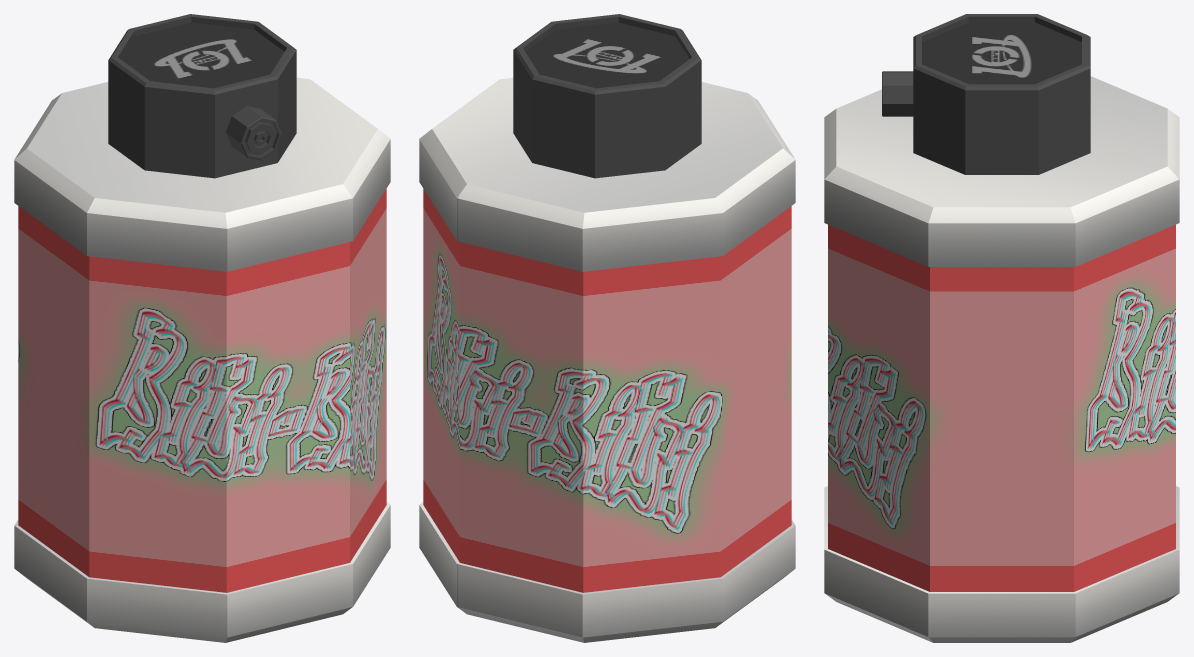
File: ST_spray_R.fbx
3 renders of one model, left to right at view 1: azimuth 30°, elevation 25°; view 2: azimuth 150°, elevation 25°; view 3: azimuth 270°, elevation 25°, orthographic.
Visible parts, largest first — view 1: pCylinder1, pCylinder4, pCylinder3; view 2: pCylinder1, pCylinder4; view 3: pCylinder1, pCylinder4, pCylinder3.
Part boxes in pixels (x1,y1,x2,y2): pCylinder1: [14, 77, 390, 642]; pCylinder4: [108, 14, 296, 178]; pCylinder3: [226, 106, 281, 160]; pCylinder1: [419, 77, 795, 642]; pCylinder4: [513, 14, 701, 178]; pCylinder1: [824, 76, 1179, 642]; pCylinder4: [913, 14, 1090, 174]; pCylinder3: [882, 71, 913, 116].
Size of the model in its own units: 1.85 by 3 by 1.85.
Materials: 1 (1 with a texture image).
